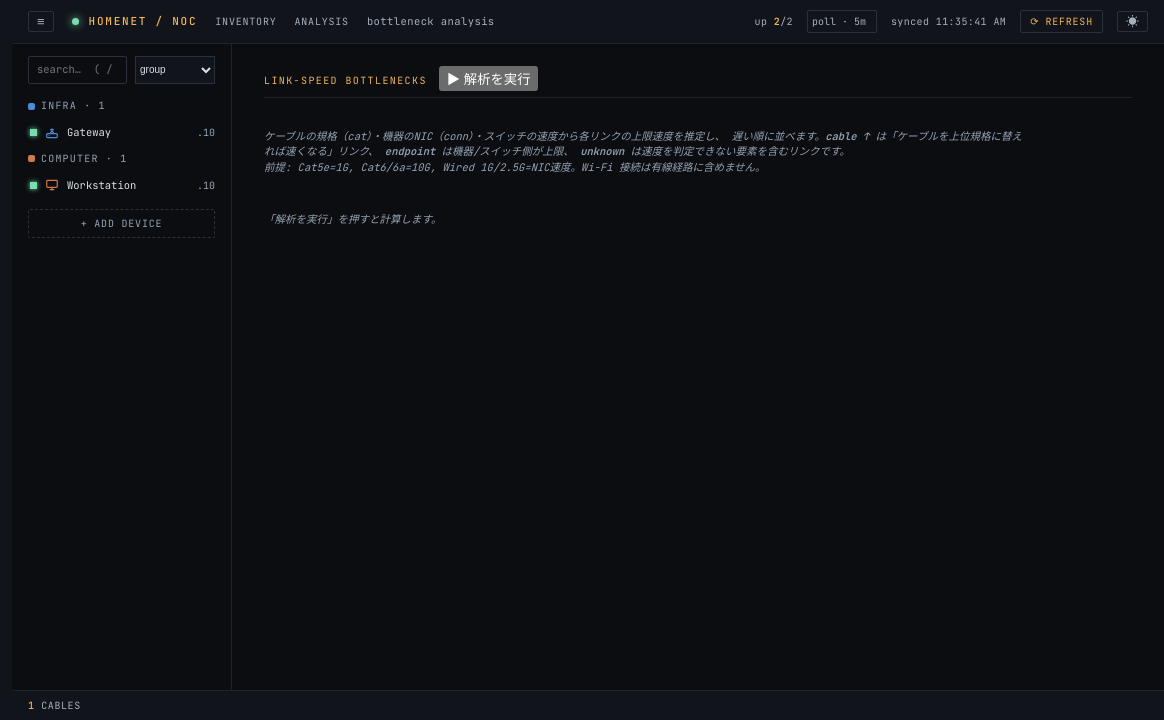
BottleneckView › computes nothing until the run button is pressed (on demand)
The width and height of the screenshot is (1164, 720).
Expected: the text "「解析を実行」を押すと計算します。" is shown, [264, 212, 442, 226]
Expected: the text "CBL-1" is not shown
Click the button "▶ 解析を実行". click: (489, 78)
box: [439, 66, 538, 91]
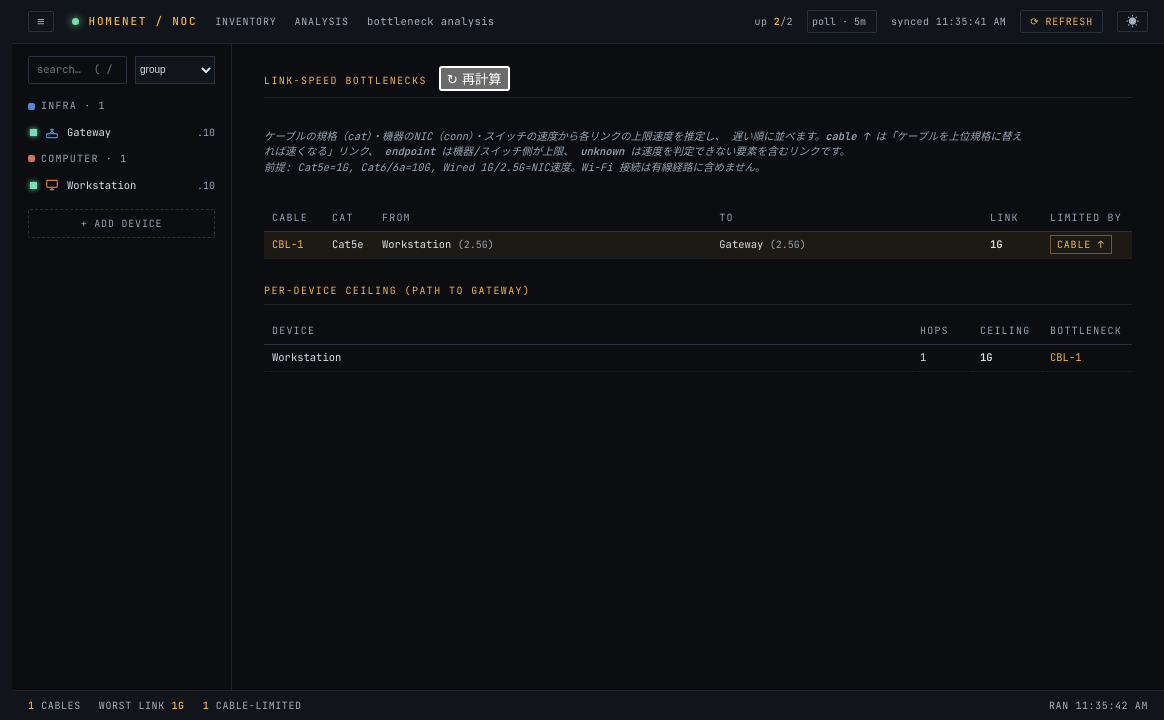
Expected: the text "CBL-1" below "from" is shown, [272, 237, 304, 251]
Expected: the text with class "warn" is shown, [1050, 235, 1112, 254]
Expected: the text "1G" below "limited by" is shown, [990, 237, 1003, 251]
